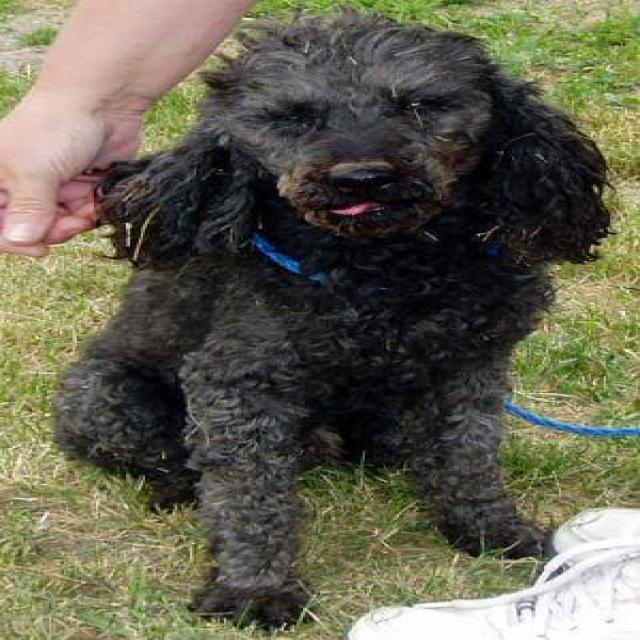dog: (47, 5, 619, 629)
